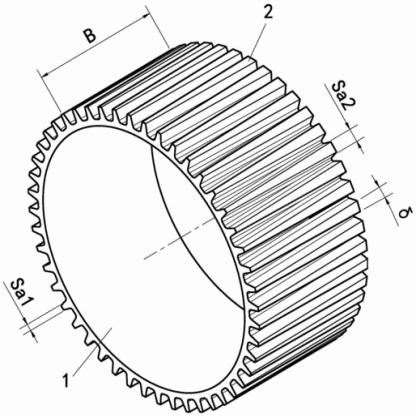FOD: (25, 34, 372, 414)
